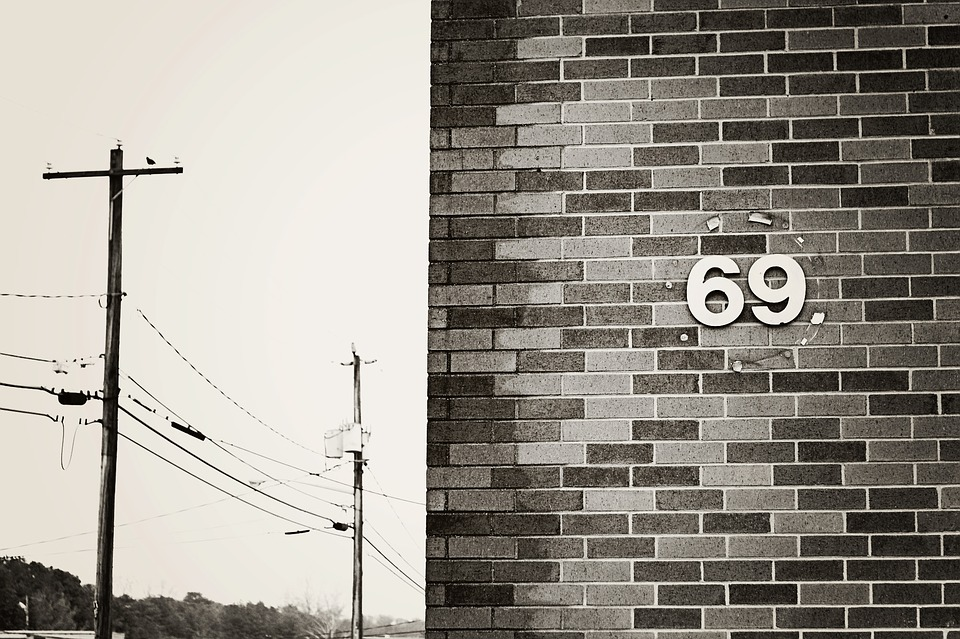utility_pole: (31, 132, 190, 222)
